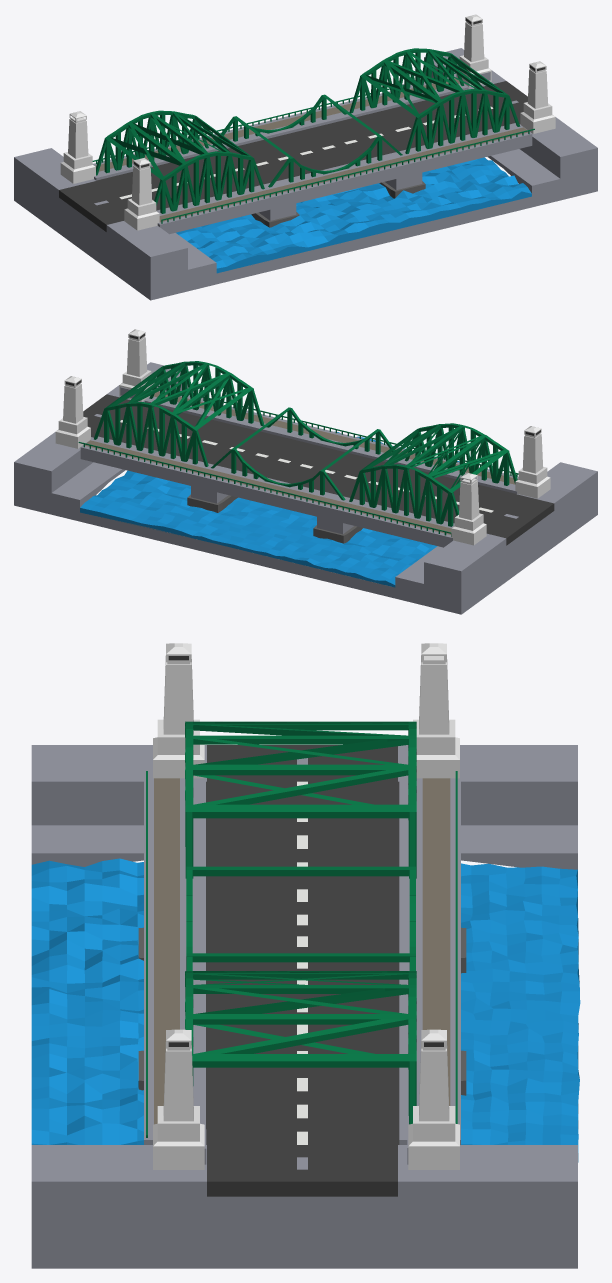
Rendered from sapanputh.glb.
The picture shows the model from 3 angles, top to bottom: view 1: azimuth 30°, elevation 25°; view 2: azimuth 150°, elevation 25°; view 3: azimuth 270°, elevation 25°; orthographic projection. The views are drawn at different scales.
Visible parts, largest first — view 1: Cube, Cube.018, Cube.020, Cube.007, Cube.001, Cube.010, Cube.017, Cube.015, Cube.005, Cube.004, Cube.013, Cube.002 (+5 smaller); view 2: Cube, Cube.018, Cube.020, Cube.007, Cube.001, Cube.010, Cube.017, Cube.015, Cube.005, Cube.002, Cube.004, Cube.013 (+5 smaller); view 3: Cube, Cube.020, Cube.007, Cube.018, Cube.010, Cube.001, Cube.015, Cube.017, Cube.013, Cube.002, Cube.005, Cube.004 (+5 smaller).
Boxes of the visible parts, x1,y1,x2,y2 form: Cube: (14, 48, 597, 300); Cube.018: (96, 48, 520, 213); Cube.020: (176, 157, 531, 273); Cube.007: (96, 93, 513, 210); Cube.001: (94, 72, 532, 234); Cube.010: (95, 78, 528, 222); Cube.017: (92, 77, 532, 227); Cube.015: (59, 81, 527, 224); Cube.005: (60, 111, 95, 183); Cube.004: (124, 158, 159, 230); Cube.013: (520, 61, 555, 133); Cube.002: (456, 14, 491, 87); Cube: (14, 362, 597, 614); Cube.018: (94, 361, 517, 526); Cube.020: (80, 431, 489, 587); Cube.007: (99, 406, 516, 523); Cube.001: (80, 387, 517, 547); Cube.010: (85, 391, 518, 534); Cube.017: (80, 390, 518, 540); Cube.015: (83, 394, 553, 538); Cube.005: (451, 472, 486, 545); Cube.002: (55, 376, 90, 448); Cube.004: (515, 426, 550, 498); Cube.013: (119, 329, 154, 401); Cube: (31, 745, 577, 1268); Cube.020: (31, 858, 580, 1162); Cube.007: (206, 781, 399, 1144); Cube.018: (185, 721, 416, 1124); Cube.010: (154, 778, 450, 1124); Cube.001: (180, 776, 422, 1164); Cube.015: (207, 745, 397, 1181); Cube.017: (144, 776, 460, 1144); Cube.013: (153, 1029, 204, 1169); Cube.002: (408, 1029, 459, 1169); Cube.005: (413, 643, 459, 778); Cube.004: (153, 643, 204, 778).
Bounding box in the file's own units: 1167 × 267 × 619.
